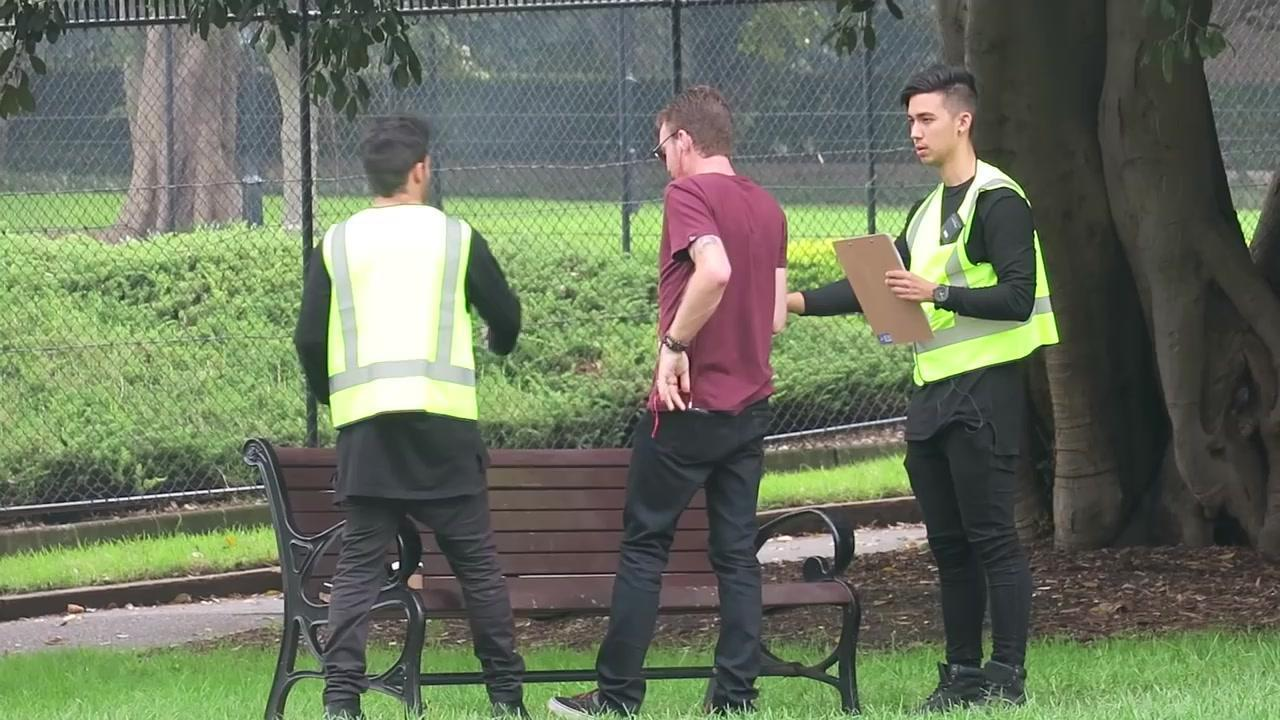vest: (321, 205, 486, 428), (902, 161, 1061, 387)
